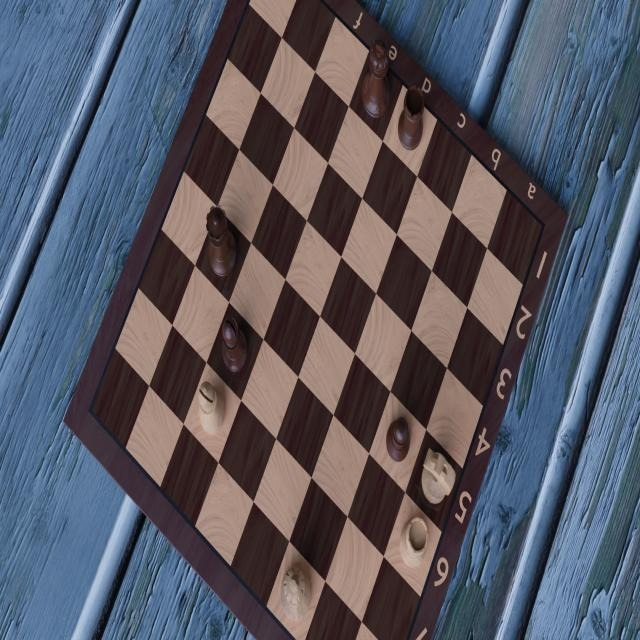black-bishop: (214, 300, 254, 380)
black-king: (356, 27, 396, 125)
black-pawn: (382, 398, 418, 486)
black-queen: (200, 200, 240, 284)
black-rook: (395, 69, 427, 167)
white-bishop: (188, 370, 231, 458)
white-knight: (418, 432, 461, 520)
white-queen: (276, 551, 316, 633)
white-rook: (396, 498, 436, 580)
